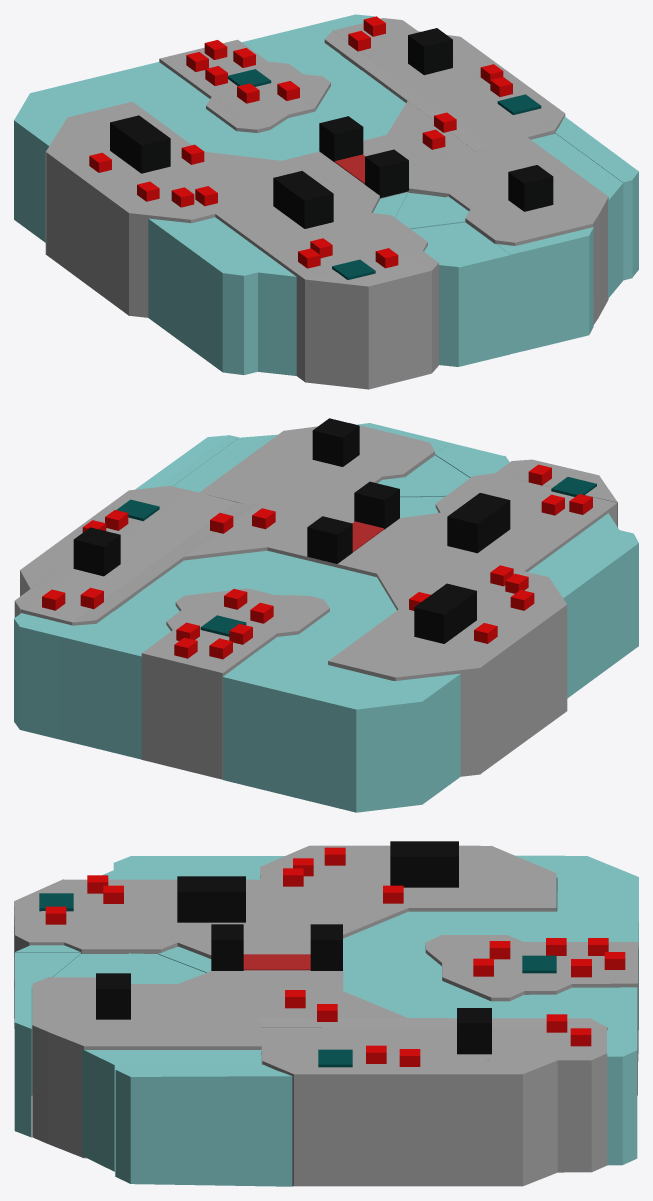
Rendered from Room2_FRScale.fbx.
3 renders of one model, top to bottom at view 1: azimuth 30°, elevation 25°; view 2: azimuth 150°, elevation 25°; view 3: azimuth 270°, elevation 25°, orthographic. The views are drawn at different scales.
Visible parts, largest first — view 1: Floor10, Floor16, Ice31, Ice5, Ice7, Floor3, Ice30, Floor1, Ice9, Ice10, Ice32, Floor14 (+51 smaller); view 2: Ice10, Floor10, Ice9, Floor23, Ice31, Ice26, Floor9, Floor3, Floor1, Ice28, Floor8, Floor14 (+50 smaller); view 3: Floor2, Ice33, Floor4, Floor3, Floor21, Floor9, Ice34, Ice10, Floor1, Floor8, Floor14, Floor10 (+57 smaller).
Boxes of the visible parts, x1=… form: Floor10: x1=46, y1=151, x2=190, y2=317; Floor16: x1=305, y1=254, x2=431, y2=389; Ice31: x1=148, y1=218, x2=257, y2=367; Ice5: x1=516, y1=227, x2=593, y2=351; Ice7: x1=429, y1=244, x2=510, y2=366; Floor3: x1=332, y1=18, x2=536, y2=145; Ice30: x1=194, y1=217, x2=296, y2=375; Floor1: x1=215, y1=137, x2=549, y2=233; Ice9: x1=14, y1=93, x2=65, y2=242; Ice10: x1=30, y1=62, x2=195, y2=119; Ice32: x1=216, y1=268, x2=257, y2=374; Floor14: x1=263, y1=215, x2=427, y2=276; Ice10: x1=223, y1=648, x2=393, y2=812; Floor10: x1=446, y1=577, x2=567, y2=773; Ice9: x1=356, y1=673, x2=460, y2=812; Floor23: x1=141, y1=630, x2=253, y2=779; Ice31: x1=550, y1=530, x2=632, y2=698; Ice26: x1=74, y1=624, x2=167, y2=759; Floor9: x1=328, y1=609, x2=480, y2=776; Floor3: x1=21, y1=490, x2=235, y2=625; Floor1: x1=199, y1=475, x2=546, y2=571; Ice28: x1=20, y1=616, x2=72, y2=738; Floor8: x1=377, y1=545, x2=524, y2=610; Floor14: x1=436, y1=476, x2=608, y2=537; Floor2: x1=262, y1=1060, x2=557, y2=1186; Ice33: x1=116, y1=1069, x2=292, y2=1186; Floor4: x1=262, y1=1051, x2=607, y2=1172; Floor3: x1=261, y1=1027, x2=606, y2=1064; Floor21: x1=48, y1=977, x2=95, y2=1157; Floor9: x1=408, y1=845, x2=556, y2=911; Ice34: x1=82, y1=1049, x2=261, y2=1171; Ice10: x1=557, y1=877, x2=638, y2=1053; Floor1: x1=212, y1=879, x2=261, y2=1049; Floor8: x1=260, y1=879, x2=408, y2=938; Floor14: x1=81, y1=879, x2=160, y2=953; Floor10: x1=261, y1=845, x2=490, y2=892.
Bounding box in the file's own units: 47.05 × 13.89 × 54.33.
